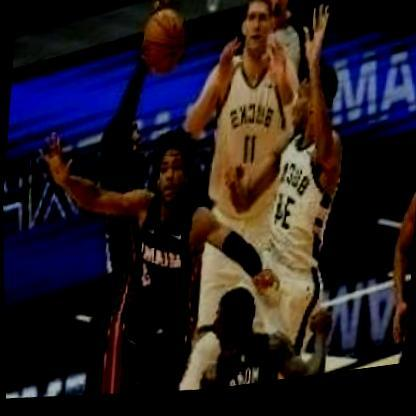basketball: (135, 5, 191, 85)
